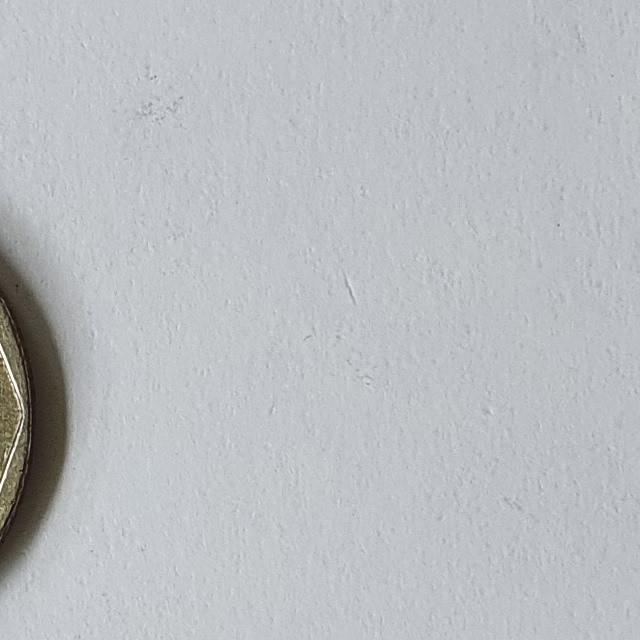5 Bath: (1, 284, 41, 571)
